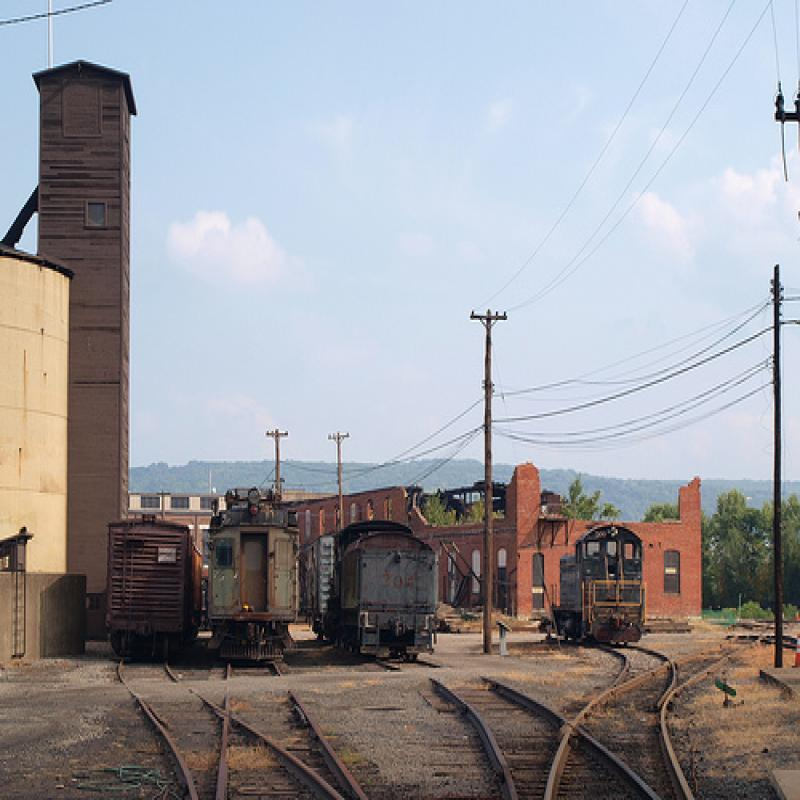train: (300, 522, 444, 665), (209, 519, 305, 673), (109, 518, 208, 663), (550, 526, 649, 652)
